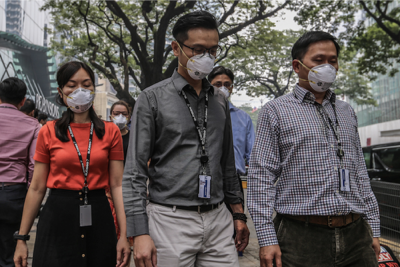with_mask: (182, 41, 221, 83), (302, 53, 341, 94), (65, 78, 97, 114), (212, 79, 233, 100), (111, 109, 130, 130)
